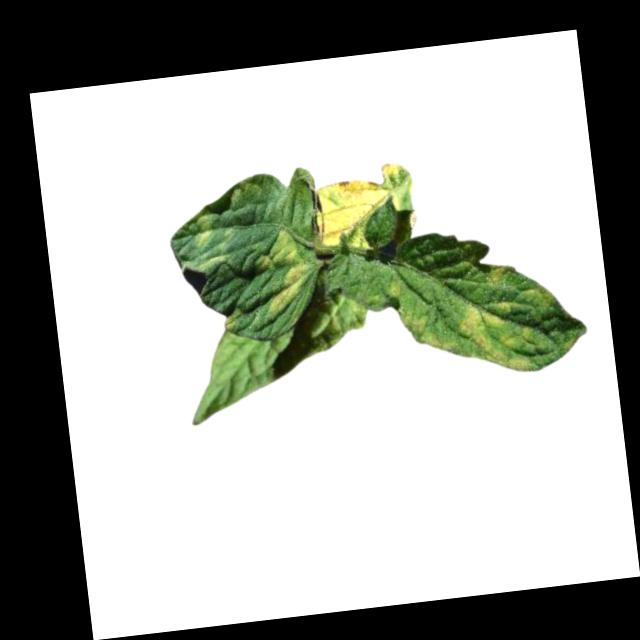Leaf_Mold: (453, 258, 560, 380), (308, 160, 418, 257), (252, 226, 315, 319)
